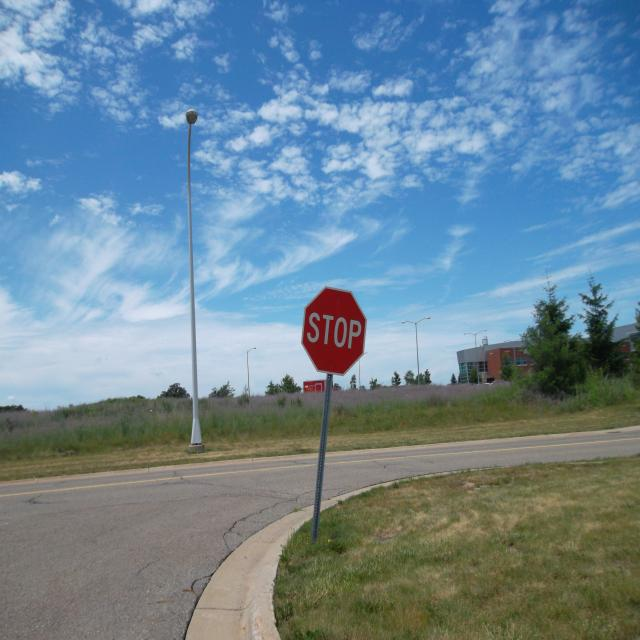stop: (301, 284, 368, 378)
